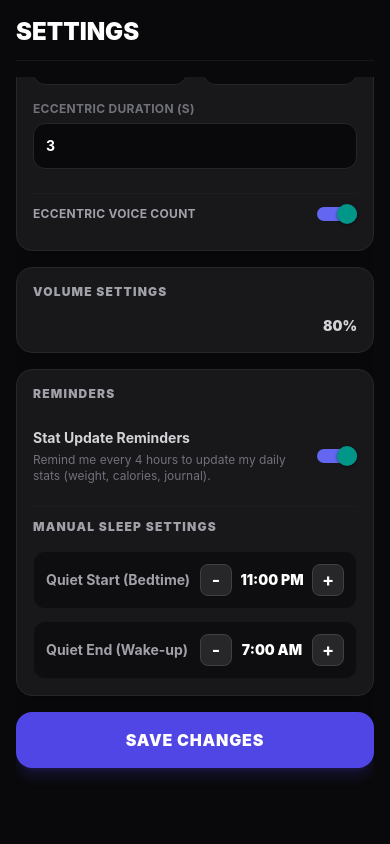
SettingsModal › manual sleep window › wraps bedtime forward past midnight
(page scrolled)
What coordinates should you click on to do the following:
click the element with test id "sleep-start-plus"
I would click on:
 (328, 580)
Its box is [312,564,344,596].
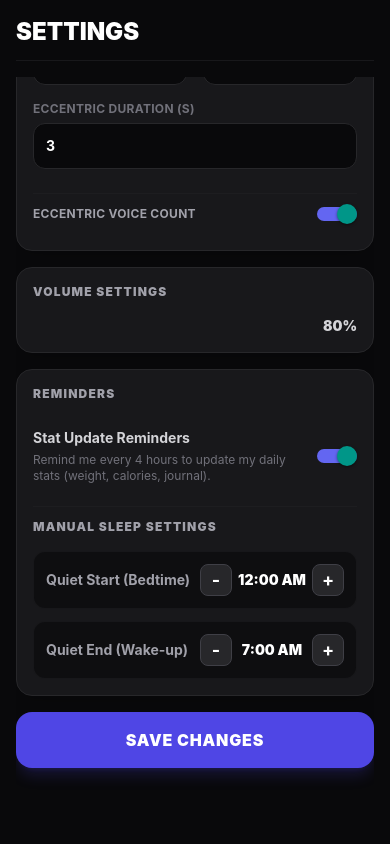
Check: the text with test id "sleep-start-text" reads "12:00 AM", box [238,571,306,588]
